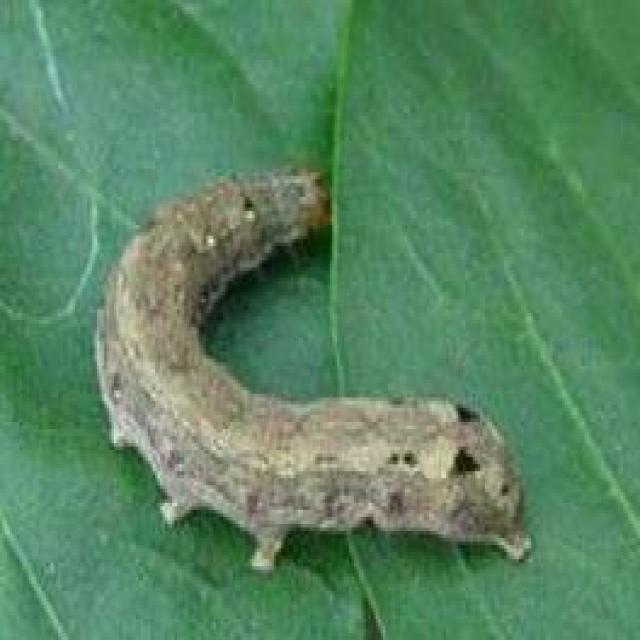BeetArmyWorm-Larva-: (86, 152, 550, 575)
